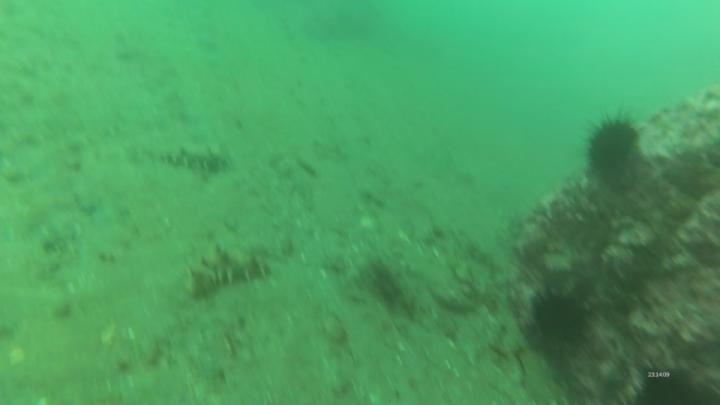echinus: (585, 117, 644, 178), (530, 289, 590, 343), (635, 361, 699, 405)
holothurian: (183, 244, 274, 298), (154, 145, 230, 176)
